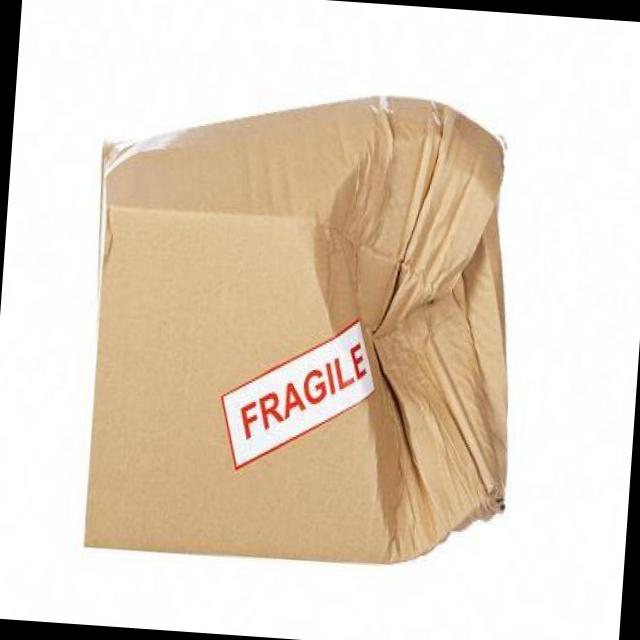box: (12, 136, 600, 572)
